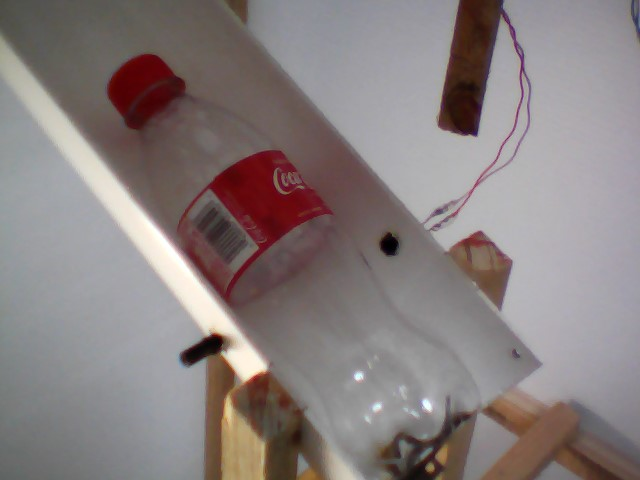plastico: (97, 47, 493, 480)
